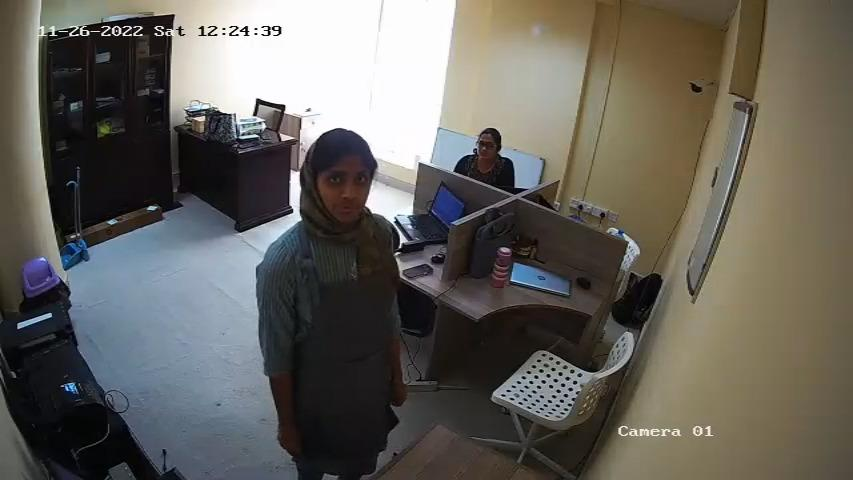apron: (285, 244, 393, 439)
